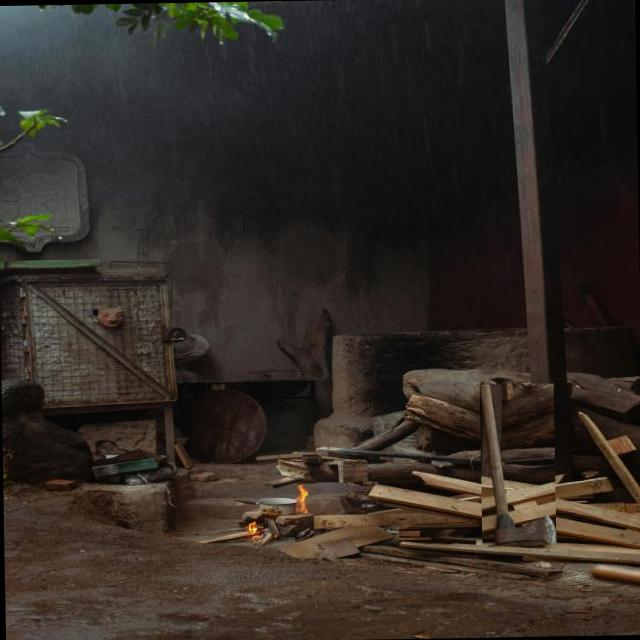Axe: (479, 384, 556, 545)
